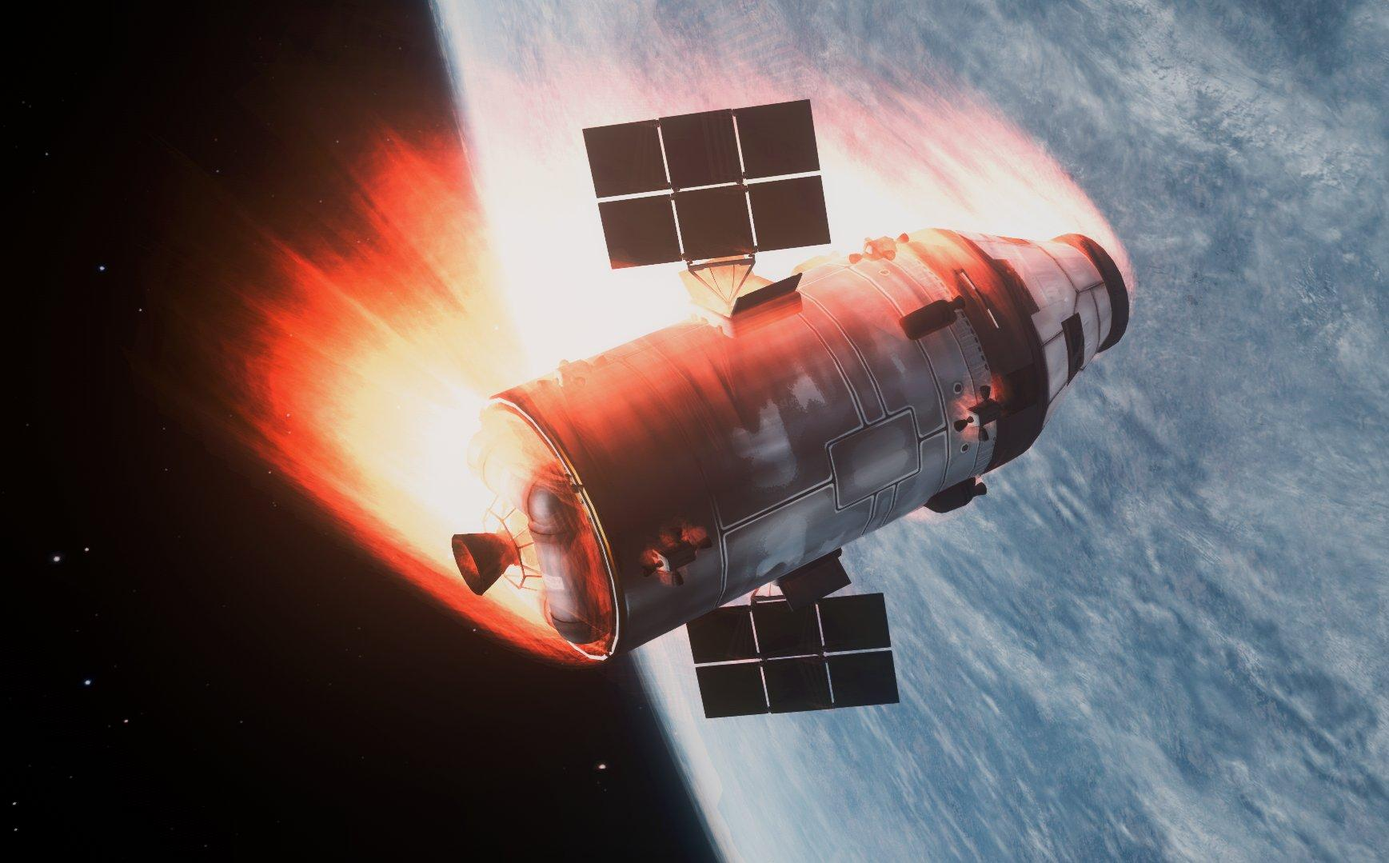body: (473, 224, 1146, 664)
solar: (580, 96, 836, 273), (684, 589, 905, 722)
thruster: (449, 530, 516, 597), (638, 560, 665, 581), (665, 524, 688, 545), (669, 566, 686, 590), (693, 536, 715, 553), (971, 481, 991, 499), (591, 353, 612, 370), (952, 417, 972, 434), (570, 374, 591, 390), (977, 384, 994, 403), (950, 294, 968, 311), (976, 426, 992, 444), (846, 251, 866, 265), (880, 247, 897, 262), (894, 231, 911, 245)
